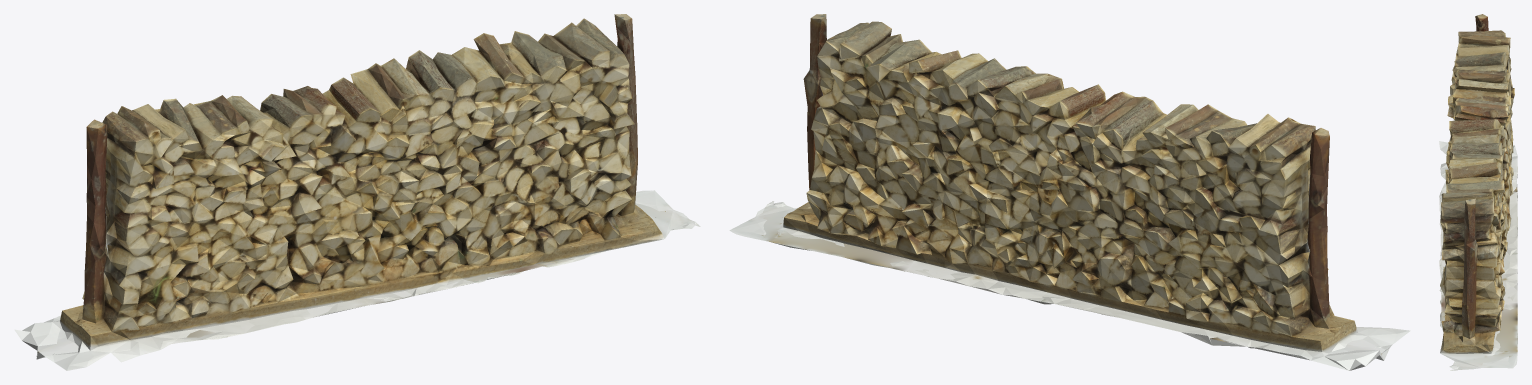
Rendered from mdl_obj_bois_04.fbx.
3 renders of one model, left to right at view 1: azimuth 30°, elevation 25°; view 2: azimuth 150°, elevation 25°; view 3: azimuth 270°, elevation 25°, orthographic. The views are drawn at different scales.
Visible parts, largest first — view 1: mdl_obj_bois_04; view 2: mdl_obj_bois_04; view 3: mdl_obj_bois_04.
Boxes of the visible parts, box(x1,y1,x2,y2) form: mdl_obj_bois_04: box(14, 14, 700, 370); mdl_obj_bois_04: box(729, 14, 1410, 370); mdl_obj_bois_04: box(1439, 14, 1517, 370).
Bounding box in the file's own units: 9.58 × 3.28 × 1.47.
Materials: 1 (1 with a texture image).
